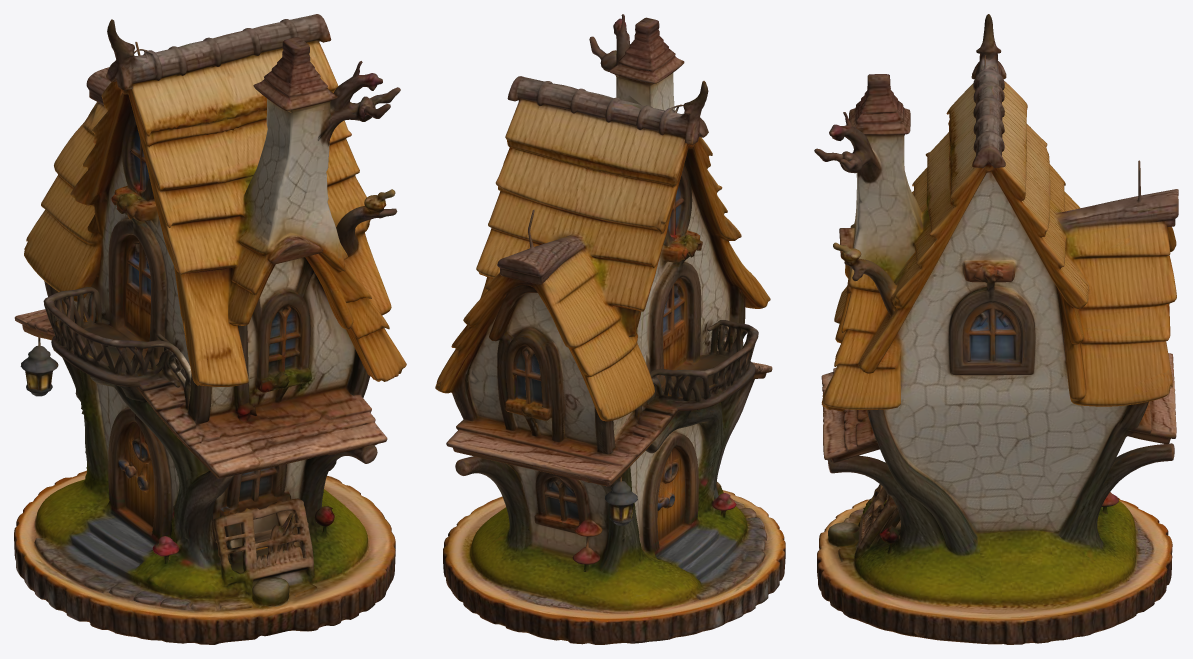
File: TorreAnimals.glb
The picture shows the model from 3 angles, left to right: view 1: azimuth 30°, elevation 25°; view 2: azimuth 150°, elevation 25°; view 3: azimuth 270°, elevation 25°; orthographic projection. The views are drawn at different scales.
Parts seen in each view (by area): view 1: material; view 2: material; view 3: material.
Boxes of the visible parts, box(x1,y1,x2,y2) form: material: box(14, 14, 406, 644); material: box(435, 14, 785, 644); material: box(814, 14, 1178, 644).
Bounding box in the file's own units: 0.6026 × 1.01 × 0.6455.
1 material, 1 textured.
